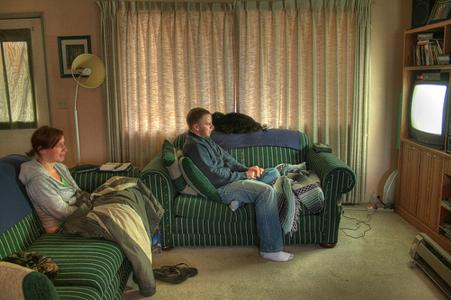person: (184, 108, 294, 262)
